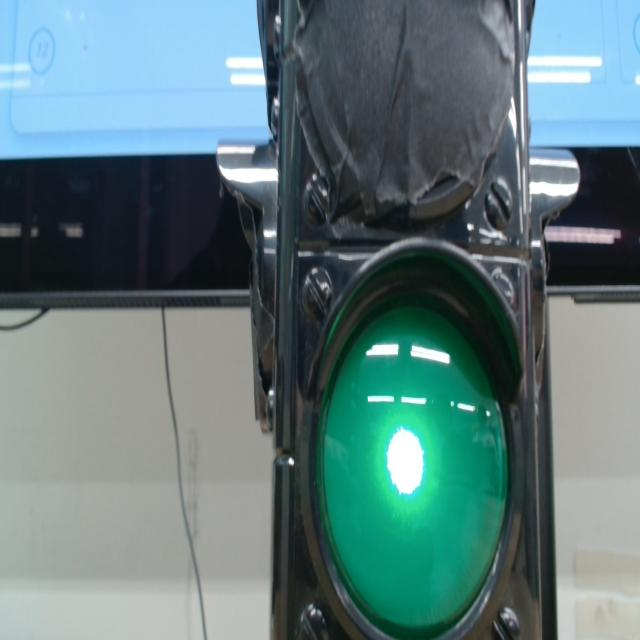green_light: (318, 304, 507, 637), (387, 427, 424, 494)
